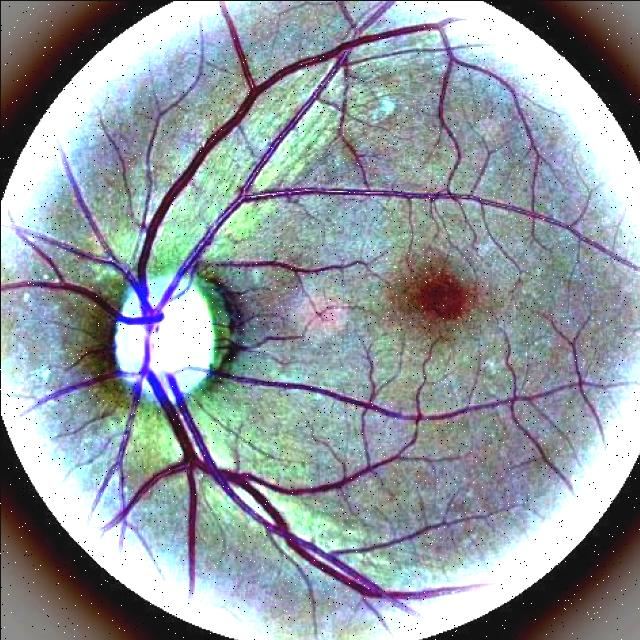Macula: (423, 263, 471, 317)
Nerves: (1, 19, 532, 616)
Optic Disk: (117, 268, 222, 399)
